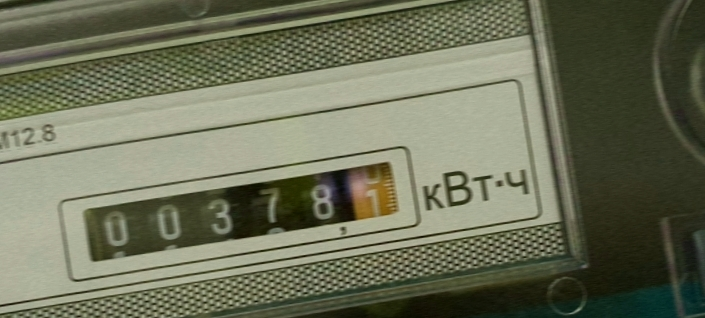0: (102, 205, 133, 248), (154, 200, 183, 241), (360, 161, 384, 186)
1: (362, 184, 385, 218)
3: (205, 194, 236, 237)
7: (257, 183, 285, 225)
8: (308, 179, 337, 222)
screen: (60, 140, 420, 274)
